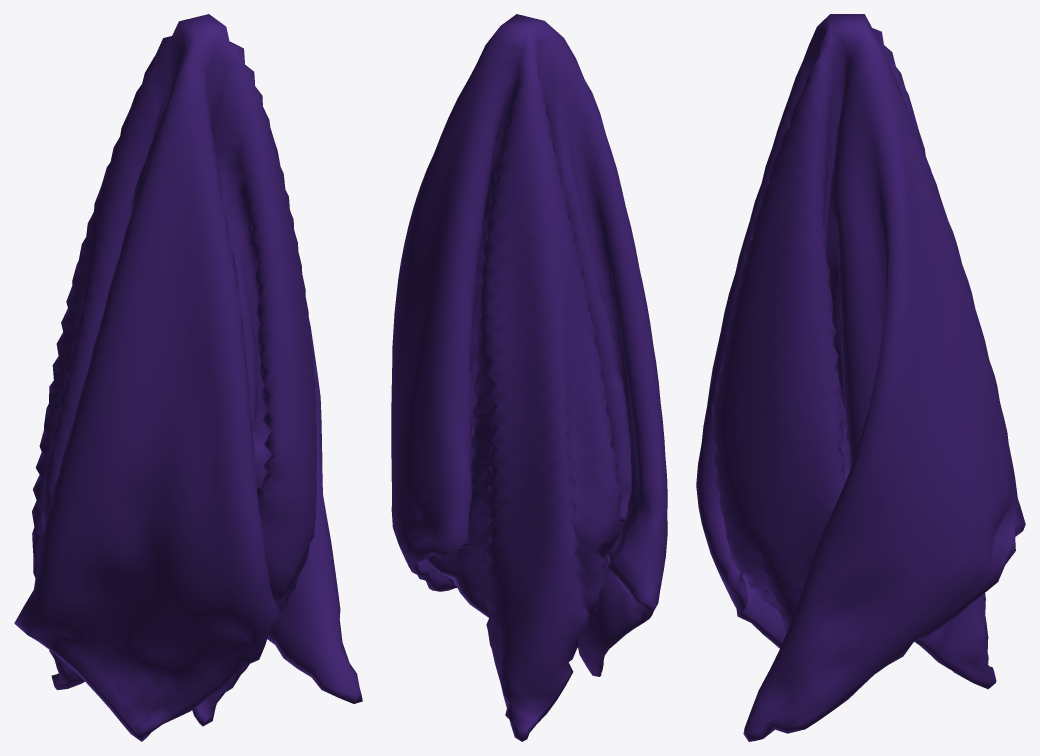
File: item11.fbx
3 renders of one model, left to right at view 1: azimuth 30°, elevation 25°; view 2: azimuth 150°, elevation 25°; view 3: azimuth 270°, elevation 25°, orthographic. The views are drawn at different scales.
Parts seen in each view (by area): view 1: Plane.003; view 2: Plane.003; view 3: Plane.003.
Part boxes in pixels (x1,y1,x2,y2): Plane.003: [14, 14, 362, 741]; Plane.003: [391, 14, 667, 741]; Plane.003: [696, 14, 1025, 741].
Size of the model in its own units: 140 by 325 by 139.
